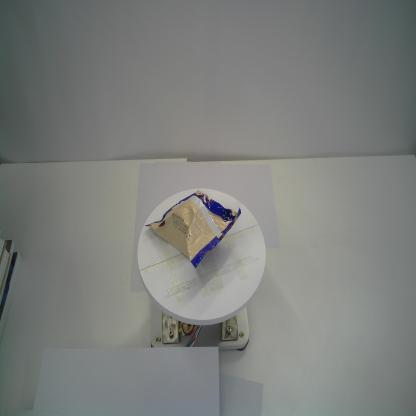Dessert: (144, 189, 242, 266)
